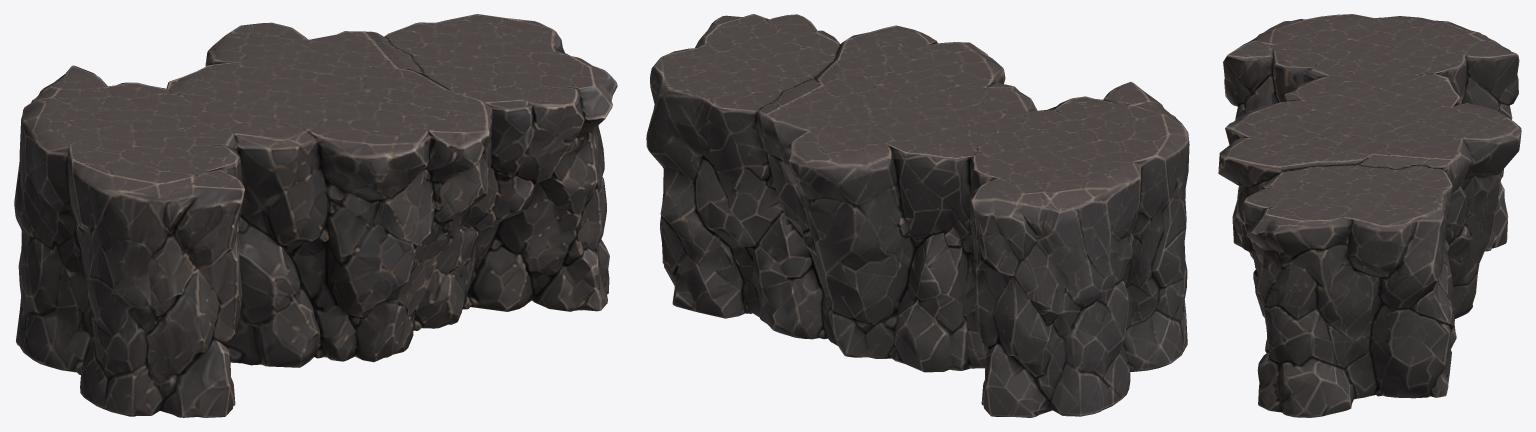
Rendered from Meshy_AI_Jagged_Stone_Wall_1020082108_texture.fbx.
The picture shows the model from 3 angles, left to right: view 1: azimuth 30°, elevation 25°; view 2: azimuth 150°, elevation 25°; view 3: azimuth 270°, elevation 25°; orthographic projection. The views are drawn at different scales.
Visible parts, largest first — view 1: Mesh_0; view 2: Mesh_0; view 3: Mesh_0.
Boxes of the visible parts, x1,y1,x2,y2 form: Mesh_0: [14, 14, 617, 417]; Mesh_0: [646, 14, 1189, 417]; Mesh_0: [1218, 14, 1521, 417].
Size of the model in its own units: 190 by 81.53 by 115.
Materials: 1 (1 with a texture image).
